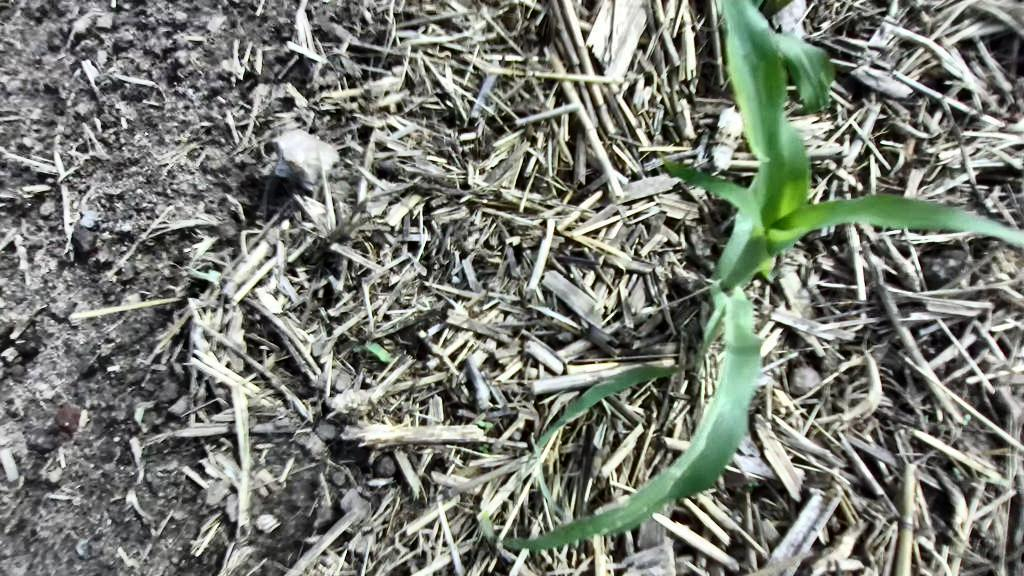BroWeed: (855, 139, 906, 179), (351, 337, 395, 363), (188, 265, 222, 284), (949, 466, 965, 483), (476, 419, 495, 429), (960, 412, 972, 427), (746, 479, 760, 489), (479, 444, 488, 452), (925, 415, 929, 424)
